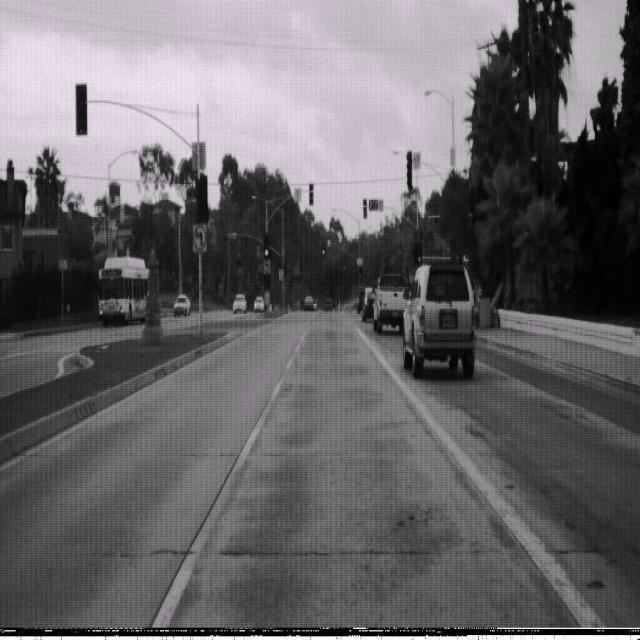noLeftTurn: (191, 223, 207, 253)
